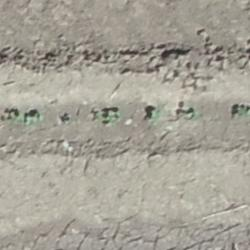cotton: (27, 115, 43, 121), (152, 109, 159, 119), (238, 108, 249, 114), (14, 114, 23, 121), (109, 111, 118, 117), (106, 117, 112, 124), (191, 111, 197, 118)
